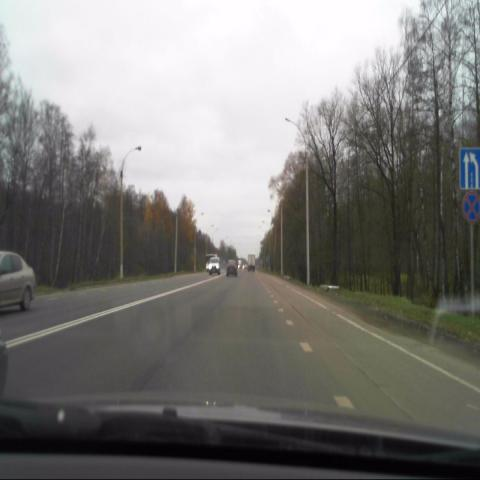5_15_5: (460, 149, 480, 188)
